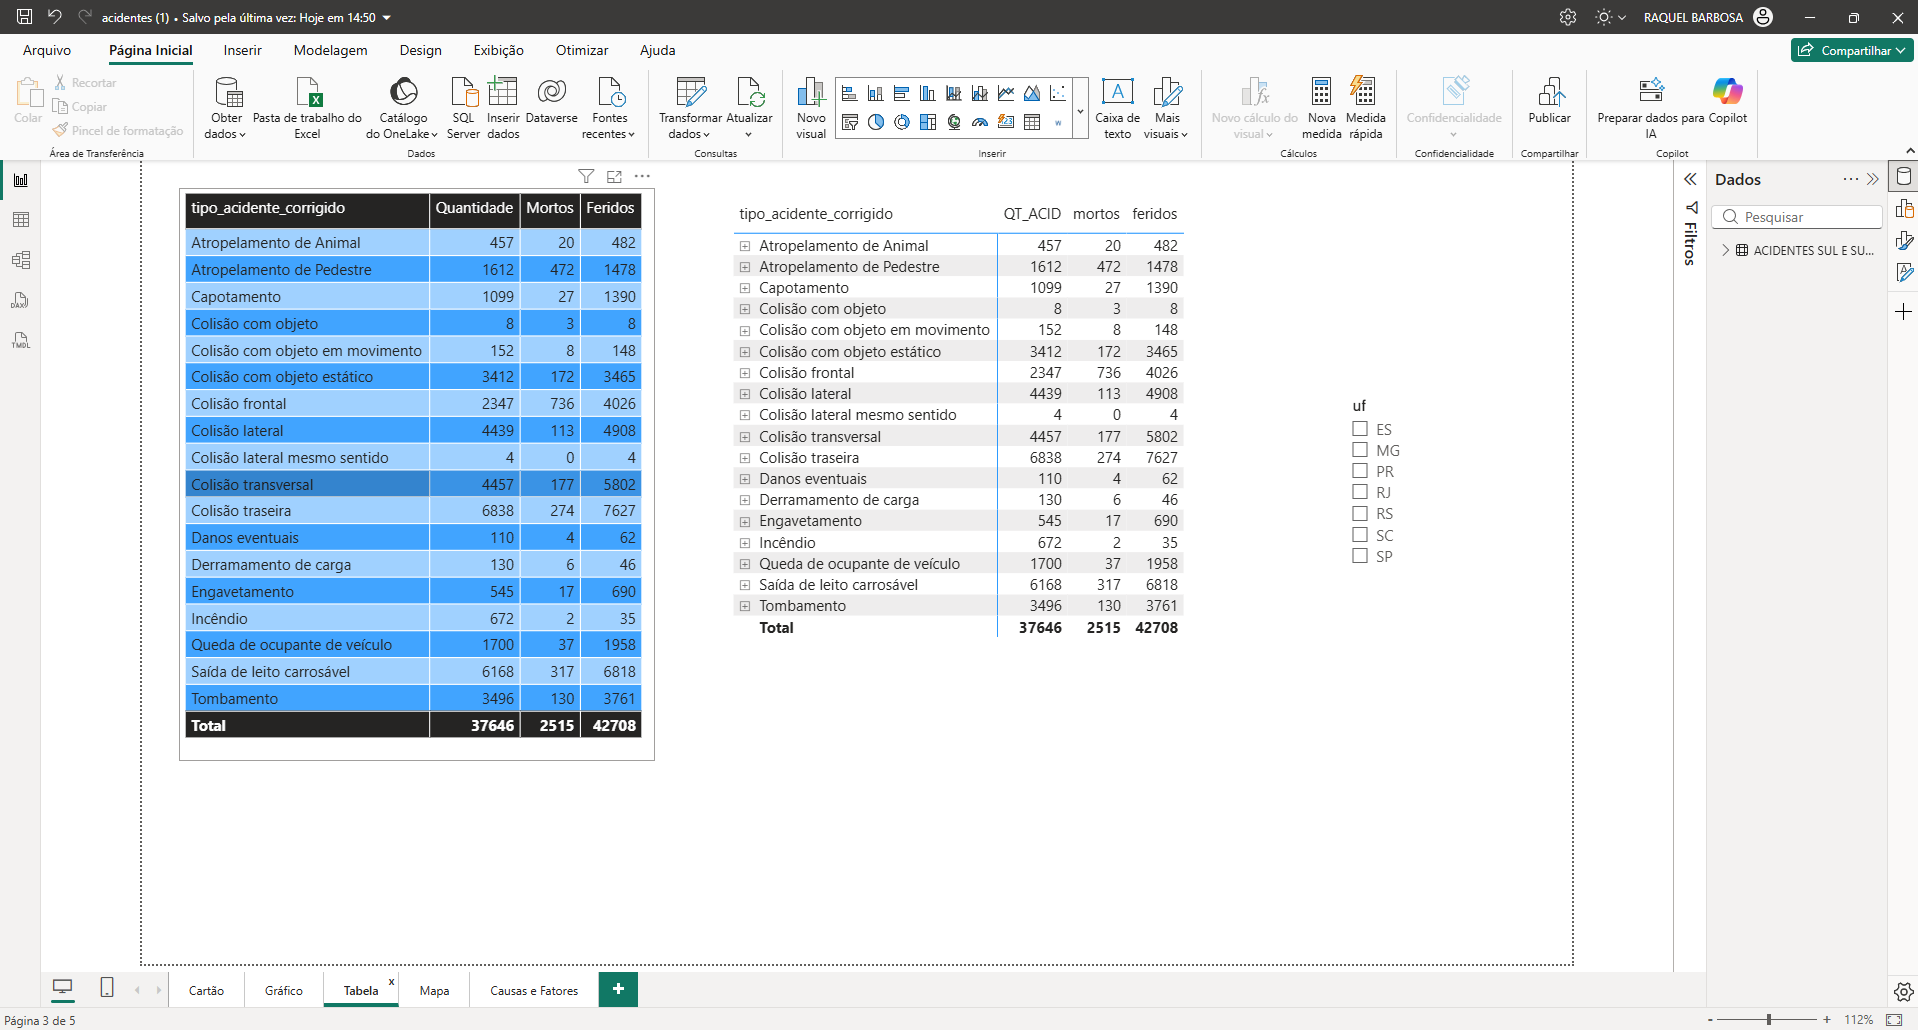

The dashboard page shown, as its layout file describes it:
{"tool":"powerbi","page":{"name":"Tabela","canvas":[1280,720],"ordinal":2},"visuals":[{"type":"tableEx","fields":{"Values":["ACIDENTES SUL E SUDESTE.tipo_acidente_corrigido","ACIDENTES SUL E SUDESTE.QT_ACID","Sum(ACIDENTES SUL E SUDESTE.mortos)","Sum(ACIDENTES SUL E SUDESTE.feridos)"]},"box":[32.9,24.9,426.7,513.5],"z":0},{"type":"pivotTable","fields":{"Rows":["ACIDENTES SUL E SUDESTE.tipo_acidente_corrigido","ACIDENTES SUL E SUDESTE.tipo_pista"],"Values":["ACIDENTES SUL E SUDESTE.QT_ACID","Sum(ACIDENTES SUL E SUDESTE.mortos)","Sum(ACIDENTES SUL E SUDESTE.feridos)"]},"box":[524.8,32.9,507.6,464.9],"z":1000},{"type":"slicer","fields":{"Values":["ACIDENTES SUL E SUDESTE.uf"]},"box":[1071.5,206.5,176.6,204.5],"z":2000}]}

Visuals, with their boxes on the page's 1280x720 design canvas (x1, y1, x2, y2). These are canvas units, not pixel positions in the 1918x1030 screenshot, which may show the page scaled, cropped or inside an application window:
tableEx - ACIDENTES SUL E SUDESTE.tipo_acidente_corrigido x ACIDENTES SUL E SUDESTE.QT_ACID: [33,25,460,538]
pivotTable - ACIDENTES SUL E SUDESTE.tipo_acidente_corrigido x ACIDENTES SUL E SUDESTE.tipo_pista: [525,33,1032,498]
slicer - ACIDENTES SUL E SUDESTE.uf: [1072,206,1248,411]
